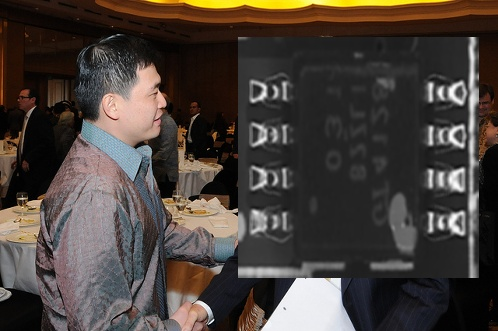PAD: (410, 59, 472, 246), (240, 63, 301, 245)
wineglass: (16, 192, 28, 217), (171, 189, 182, 216), (174, 198, 186, 218), (188, 154, 193, 168)
